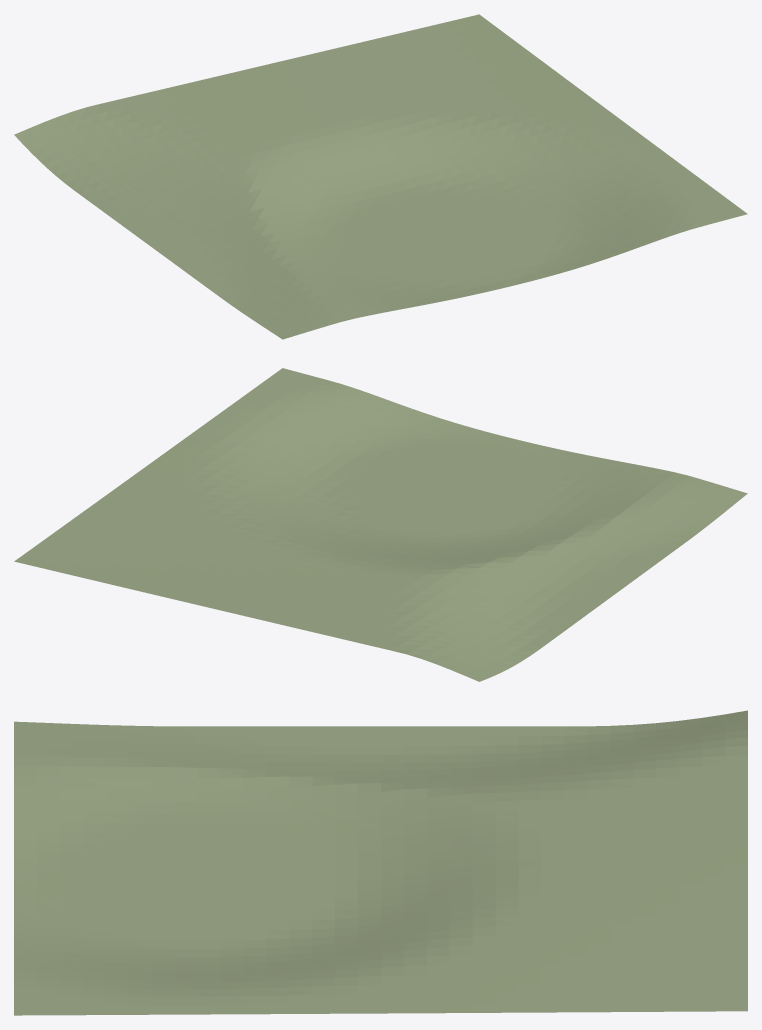
File: gardens-2-4.glb
3 renders of one model, top to bottom at view 1: azimuth 30°, elevation 25°; view 2: azimuth 150°, elevation 25°; view 3: azimuth 270°, elevation 25°, orthographic. The views are drawn at different scales.
Parts seen in each view (by area): view 1: gardens-2-4; view 2: gardens-2-4; view 3: gardens-2-4.
Part boxes in pixels (left/top/right/bottom): gardens-2-4: left=14, top=14, right=747, bottom=339; gardens-2-4: left=14, top=368, right=747, bottom=681; gardens-2-4: left=14, top=710, right=747, bottom=1015.
Bounding box in the file's own units: 256 × 11.31 × 256.
